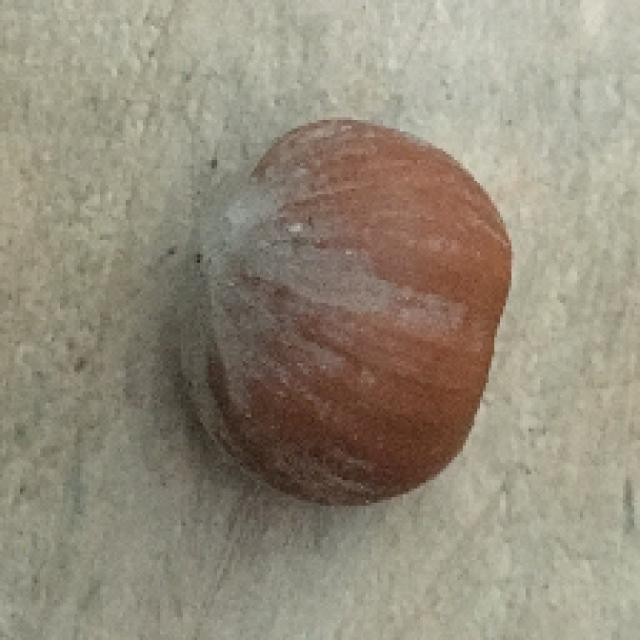qualityHazelnut: (176, 108, 509, 512)
